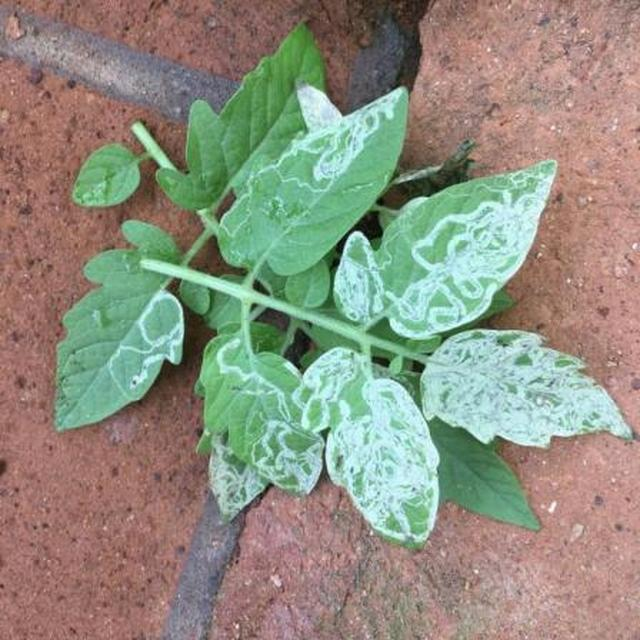Leaf Miner: (177, 172, 640, 640)
